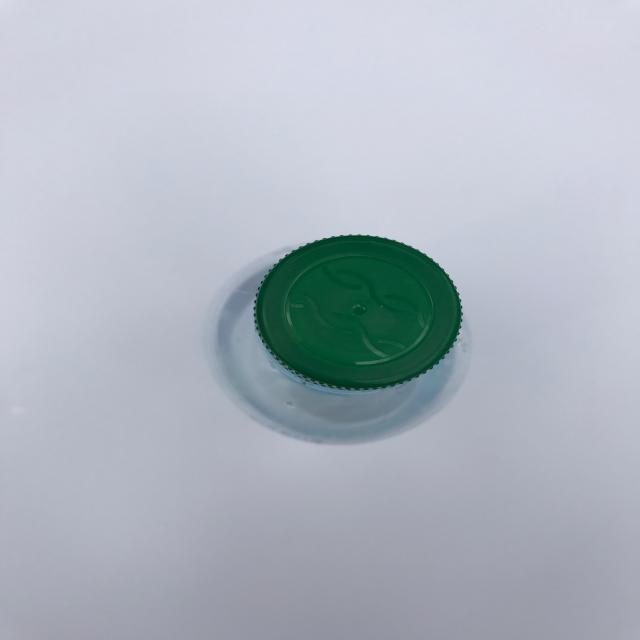plastic: (197, 232, 473, 448)
